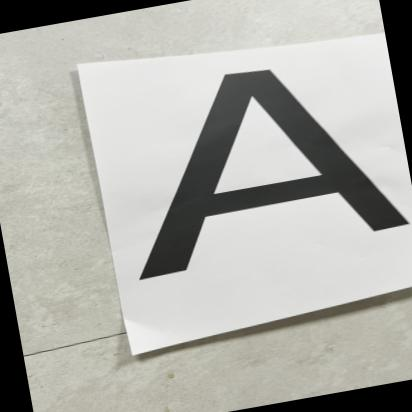seat: (91, 40, 412, 295)
